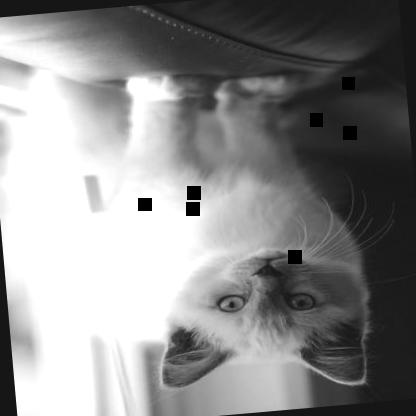cat: (95, 57, 380, 406)
